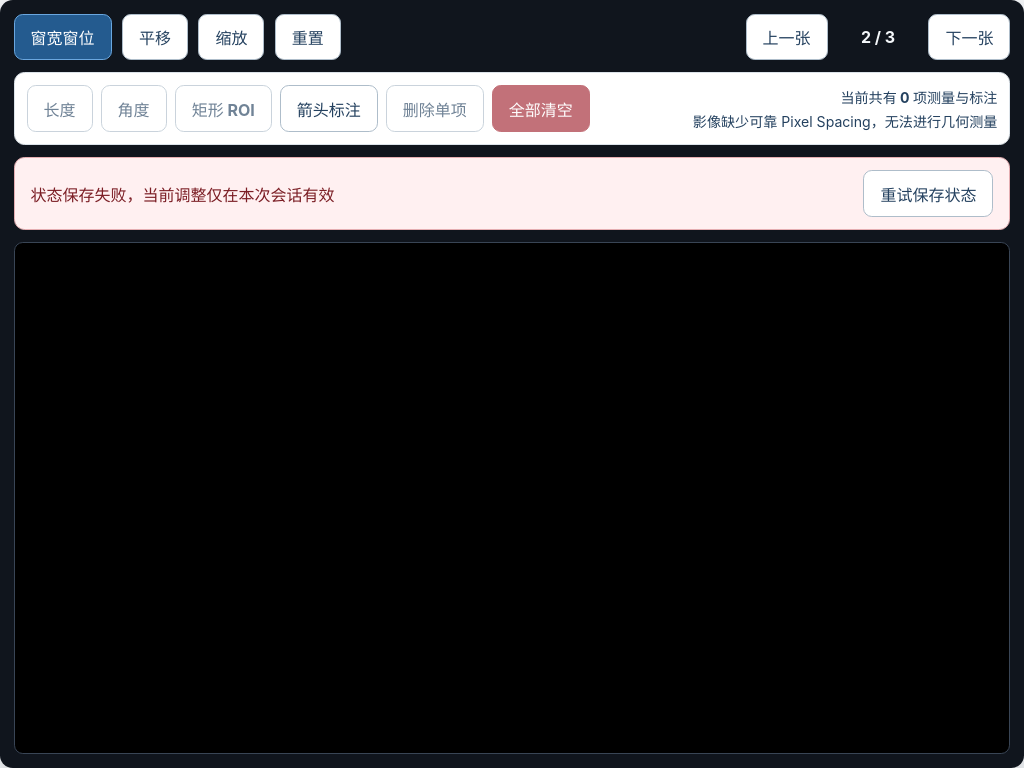
it: announces writer progress and retries a failed save without disabling tools
This screenshot has width=1024, height=768.
Expected: the text "状态保存失败，当前调整仅在本次会话有效" is shown, [31,182,335,206]
Expected: the button "平移" is enabled, [122,14,188,60]
Step 1. Click the button "重试保存状态" → (928, 194), box [863,170,993,217]
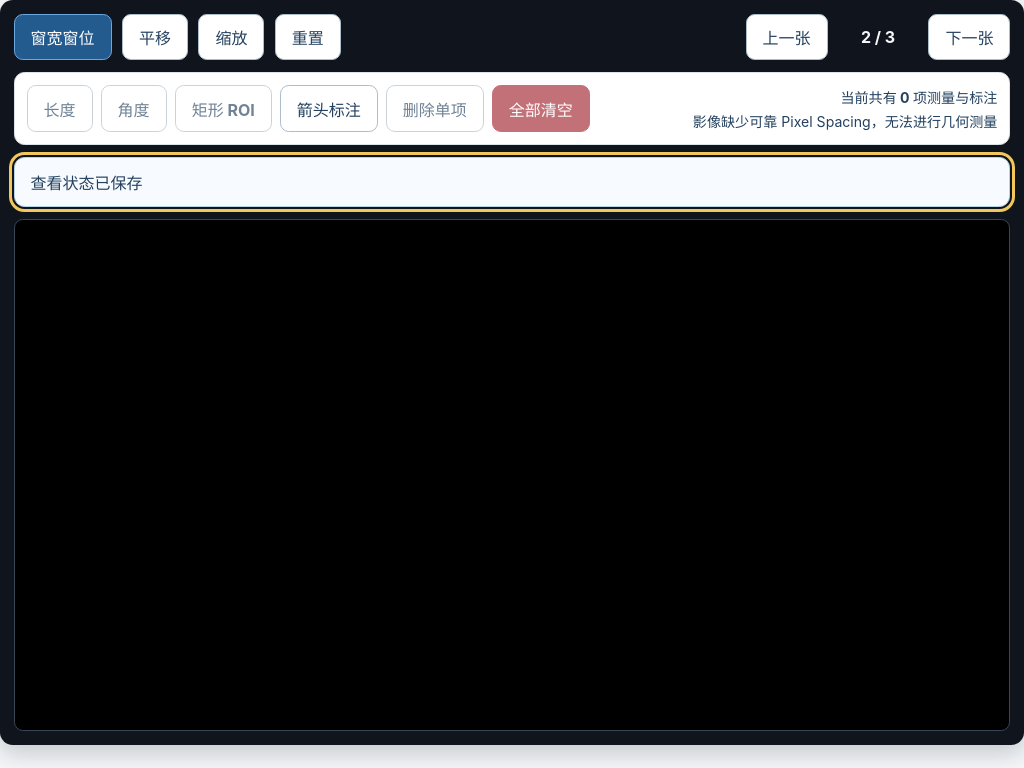
Result: the text "查看状态已保存" is shown at [31,170,143,194]
